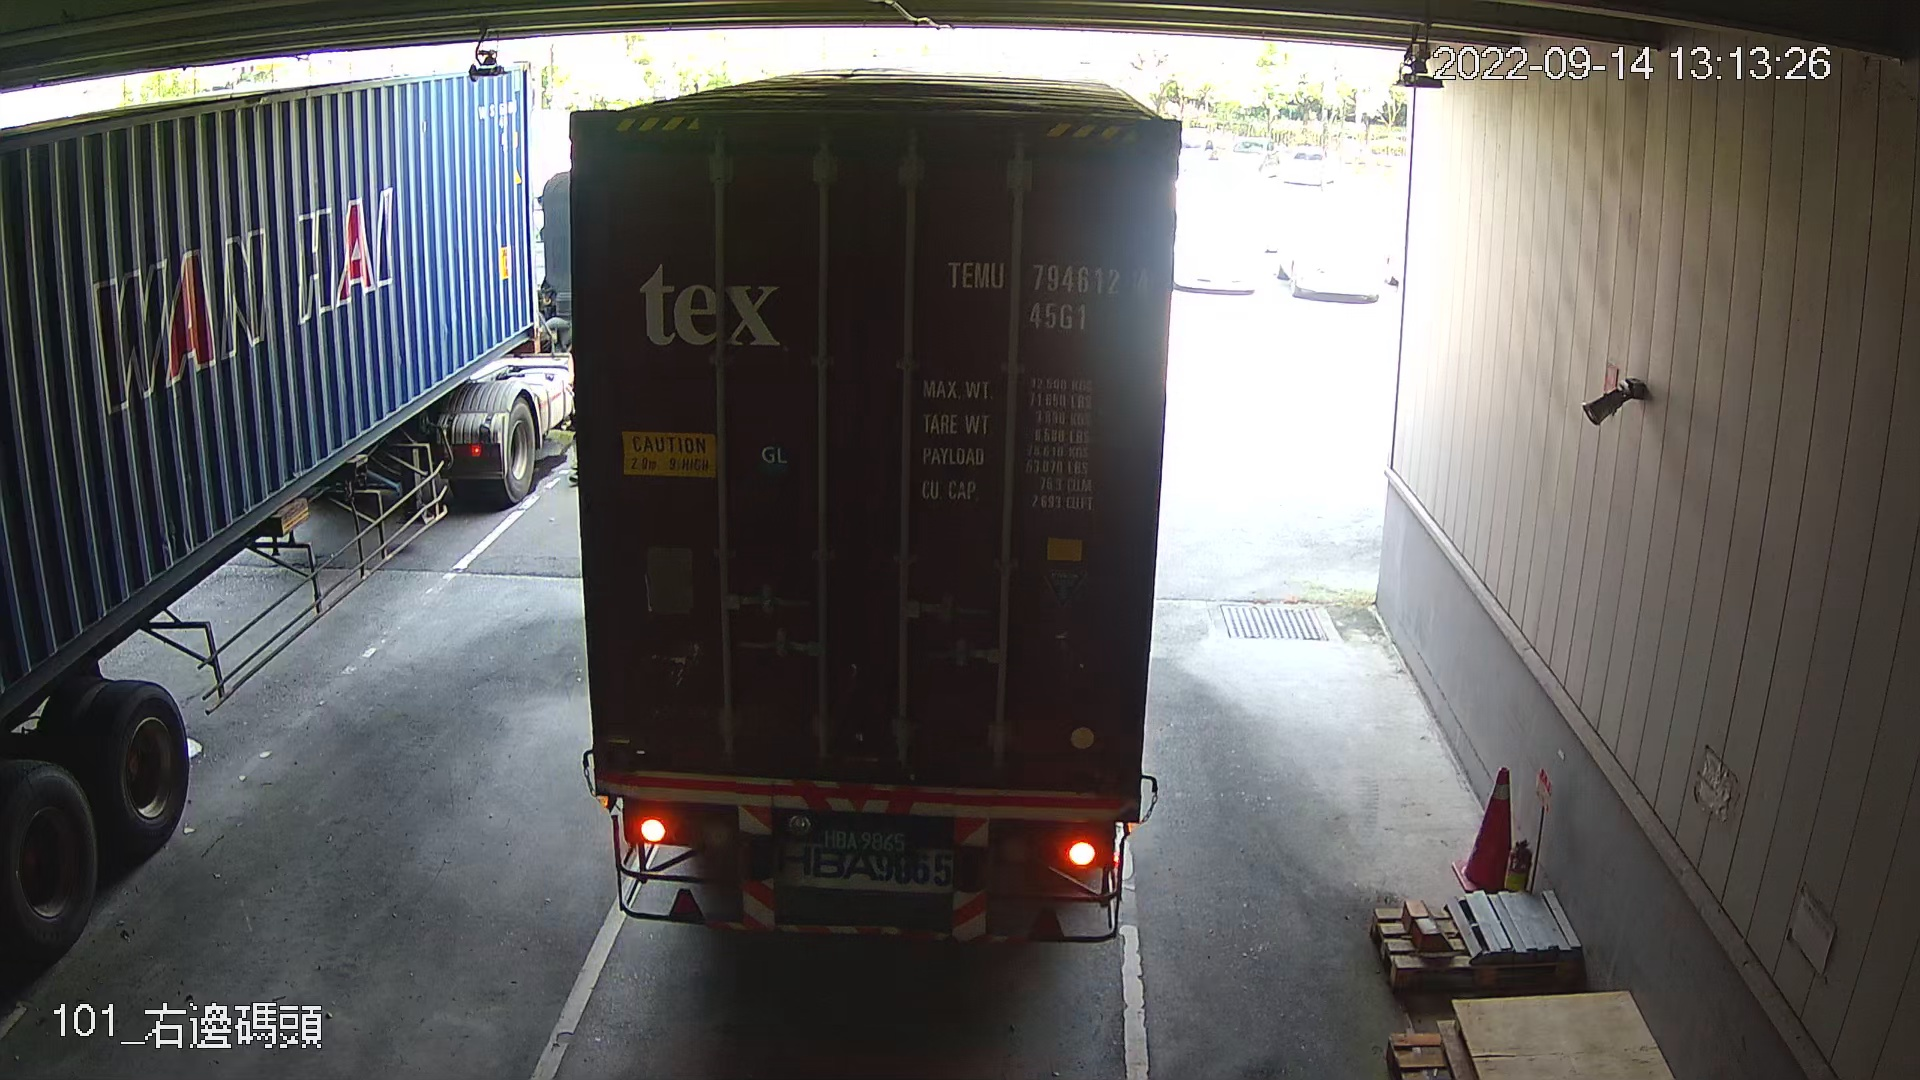container: (938, 248, 1160, 345)
